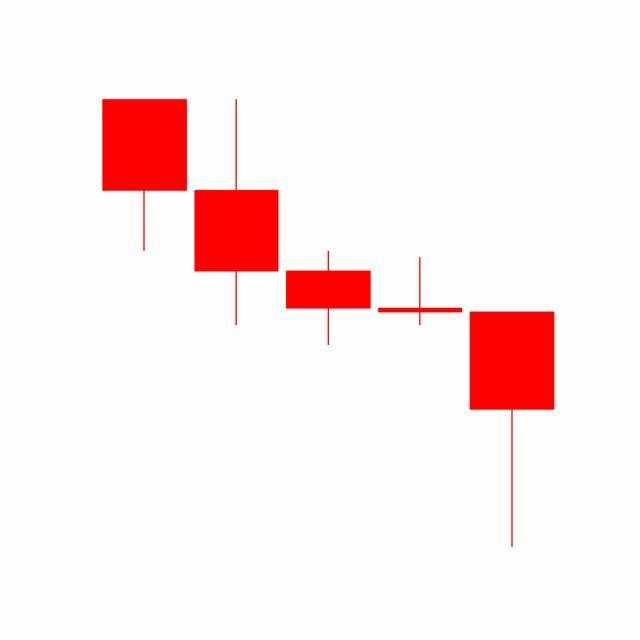Gravestone Doji: (374, 257, 468, 327)
